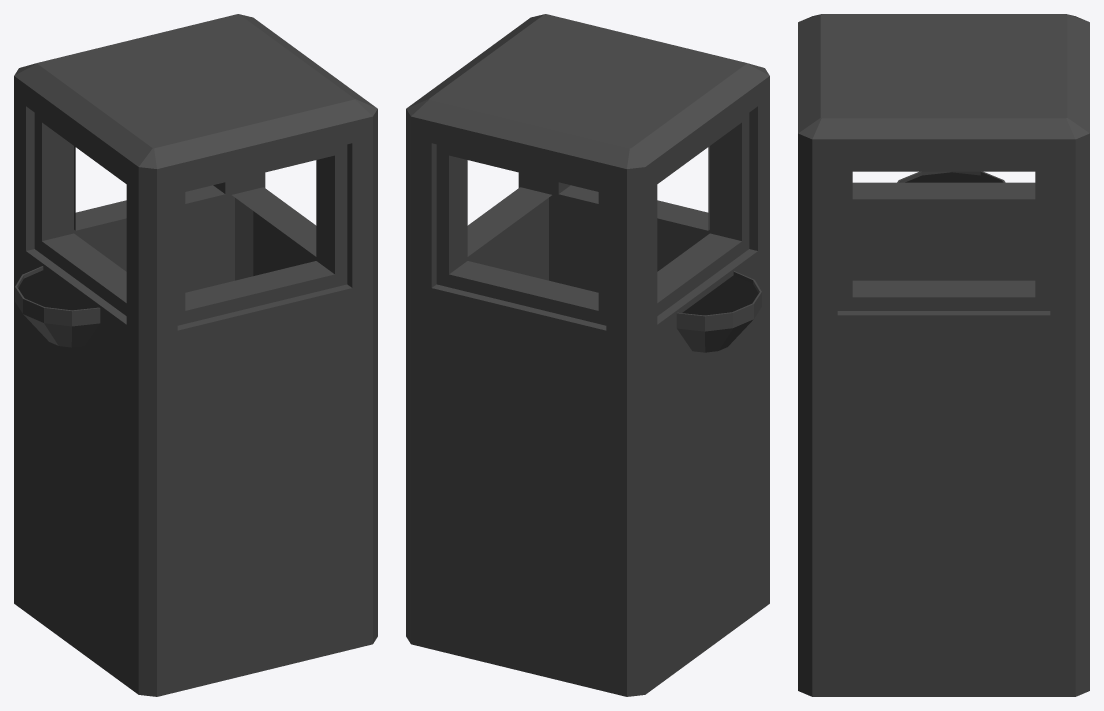
File: Park.glb
3 views of the same model, side by side, from view 1: azimuth 30°, elevation 25°; view 2: azimuth 150°, elevation 25°; view 3: azimuth 270°, elevation 25° (orthographic). The views are drawn at different scales.
Visible parts, largest first — view 1: BOTTINO.001; view 2: BOTTINO.001; view 3: BOTTINO.001.
Boxes of the visible parts, x1,y1,x2,y2 form: BOTTINO.001: (14, 14, 377, 696); BOTTINO.001: (406, 14, 769, 696); BOTTINO.001: (798, 14, 1089, 696).
Bounding box in the file's own units: 0.7355 × 1.31 × 0.6086.
Materials: 1 (1 with a texture image).
